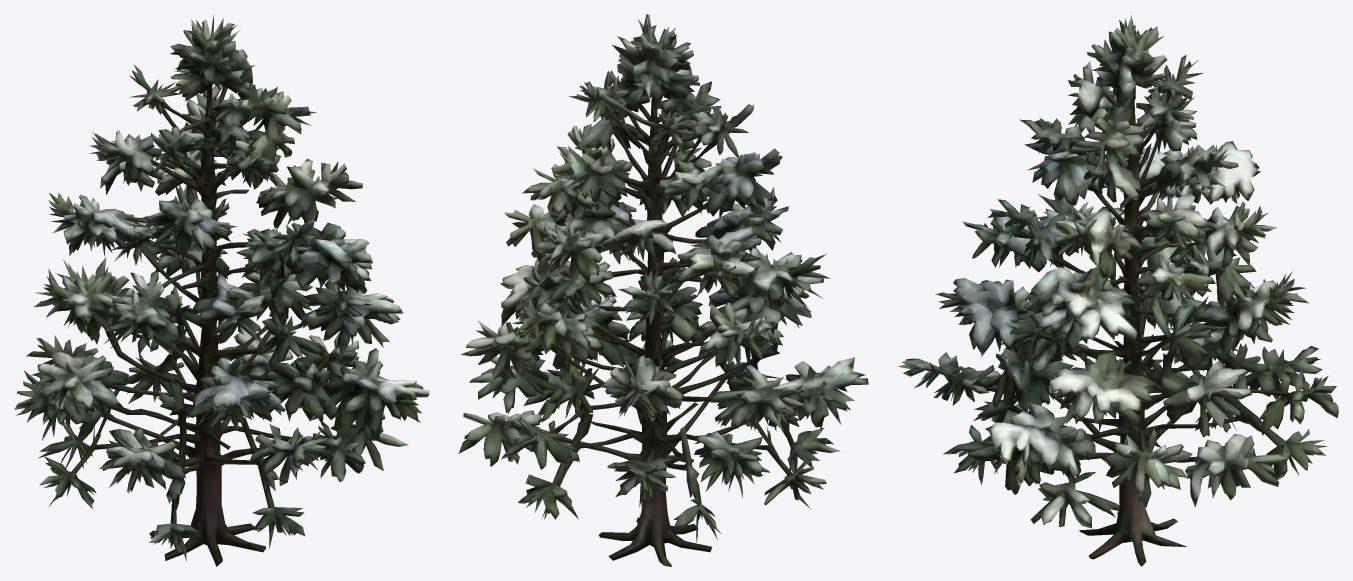
Rendered from tree_spruce_snow.glb.
3 views of the same model, side by side, from view 1: azimuth 30°, elevation 25°; view 2: azimuth 150°, elevation 25°; view 3: azimuth 270°, elevation 25° (orthographic).
Parts seen in each view (by area): view 1: tripo_node_6882b698-f1e0-484e-9f3e-3ada887314de; view 2: tripo_node_6882b698-f1e0-484e-9f3e-3ada887314de; view 3: tripo_node_6882b698-f1e0-484e-9f3e-3ada887314de.
Part boxes in pixels (x1=…): tripo_node_6882b698-f1e0-484e-9f3e-3ada887314de: x1=14, y1=15, x2=429, y2=566; tripo_node_6882b698-f1e0-484e-9f3e-3ada887314de: x1=458, y1=14, x2=868, y2=566; tripo_node_6882b698-f1e0-484e-9f3e-3ada887314de: x1=898, y1=15, x2=1338, y2=566.
Bounding box in the file's own units: 0.6773 × 1 × 0.7612.
Materials: 1 (1 with a texture image).
